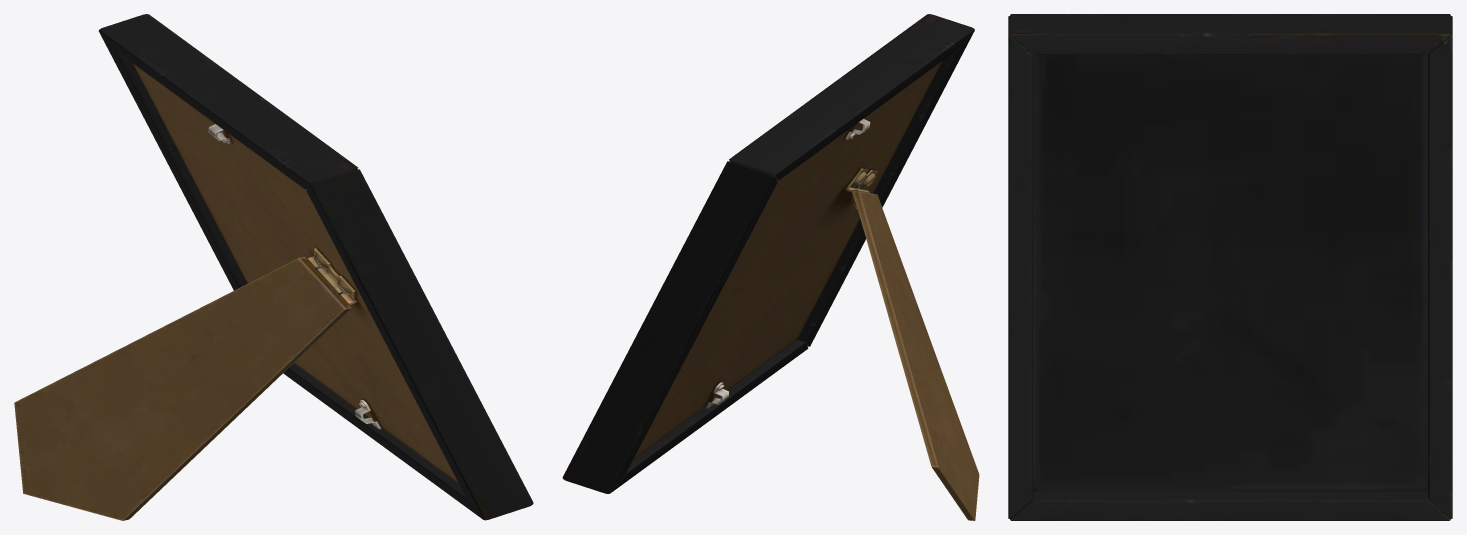
The model's file is ph-standing-picture-frame-01.glb.
3 renders of one model, left to right at view 1: azimuth 30°, elevation 25°; view 2: azimuth 150°, elevation 25°; view 3: azimuth 270°, elevation 25°, orthographic. The views are drawn at different scales.
Parts seen in each view (by area): view 1: standing_picture_frame_01; view 2: standing_picture_frame_01; view 3: standing_picture_frame_01.
Part boxes in pixels (box(x1,y1,x2,y2)): standing_picture_frame_01: box(14, 14, 533, 520); standing_picture_frame_01: box(562, 14, 979, 520); standing_picture_frame_01: box(1008, 14, 1452, 520).
Size of the model in its own units: 1 by 1 by 1.
Materials: 3 (3 with a texture image).
